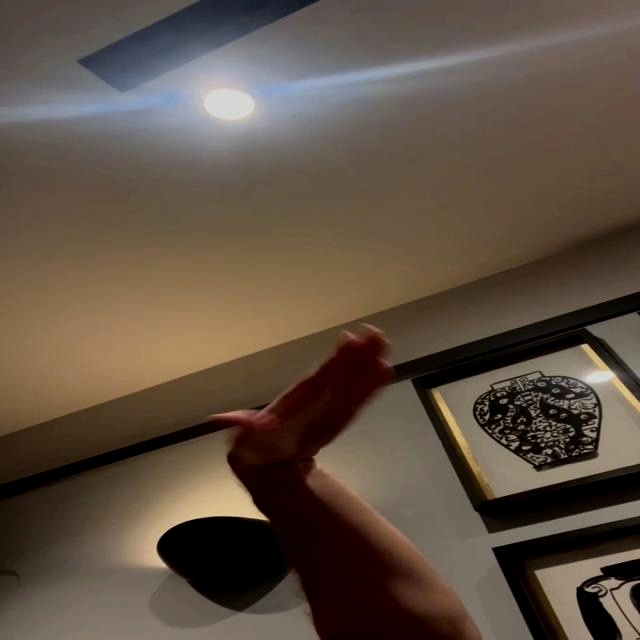Paper: (207, 323, 399, 472)
